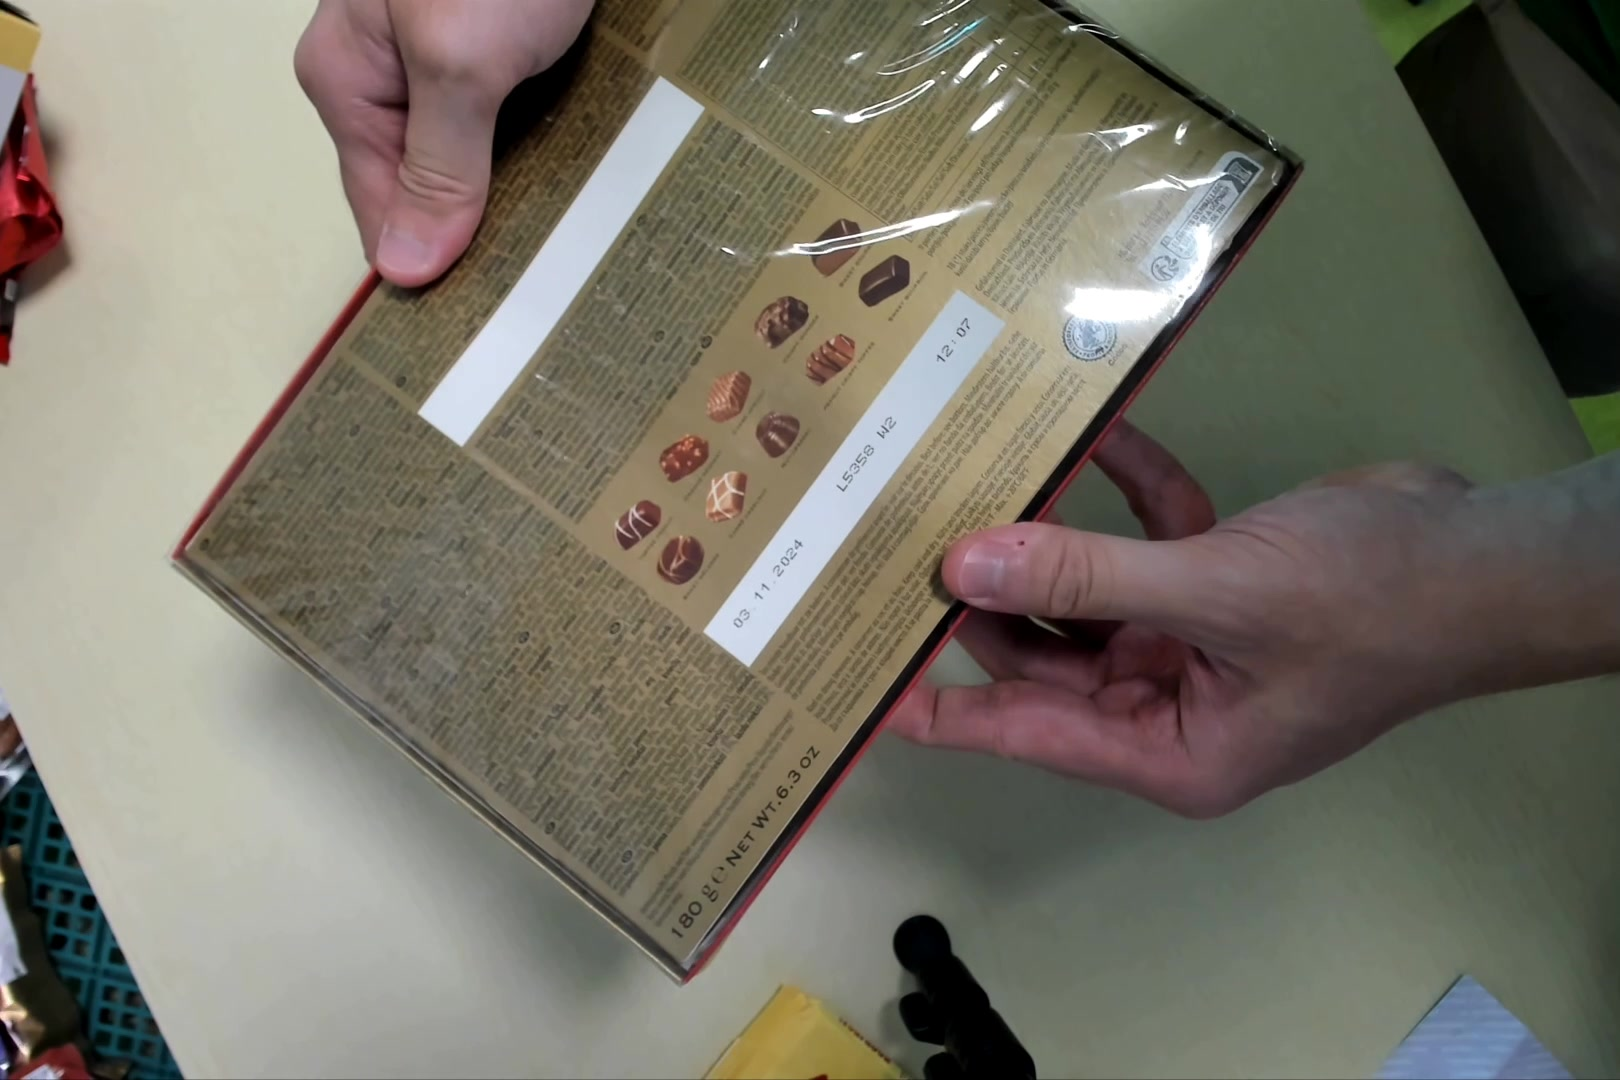SweetsChocolatesOthers_100-199g_NonHalal_NonHealthy: (162, 5, 1326, 986)
